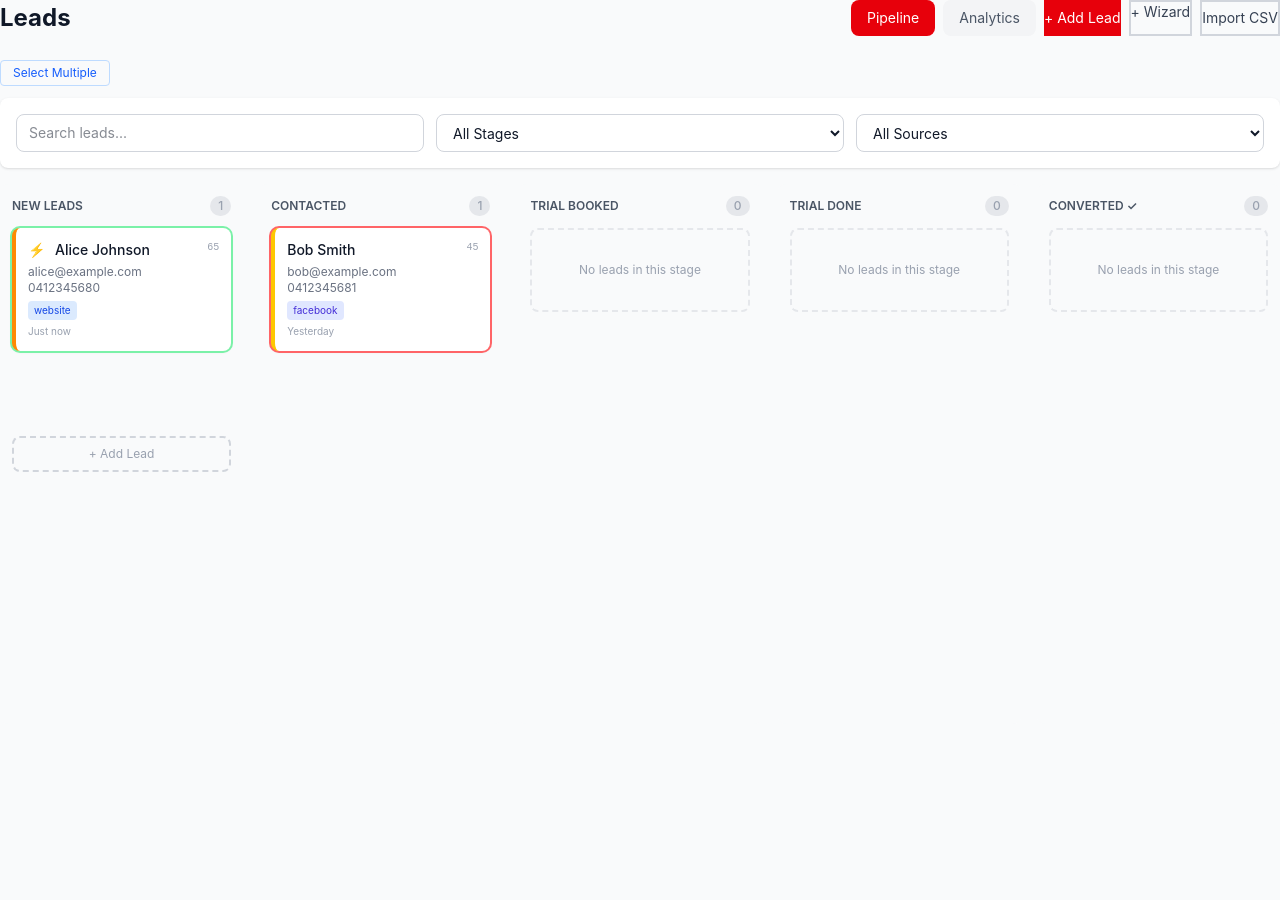
Test: Leads Page › opens detail panel when lead card is clicked
The width and height of the screenshot is (1280, 900).
Click the text "⚡ Alice Johnson" at [89, 250], box x1=28 y1=240 x2=150 y2=260
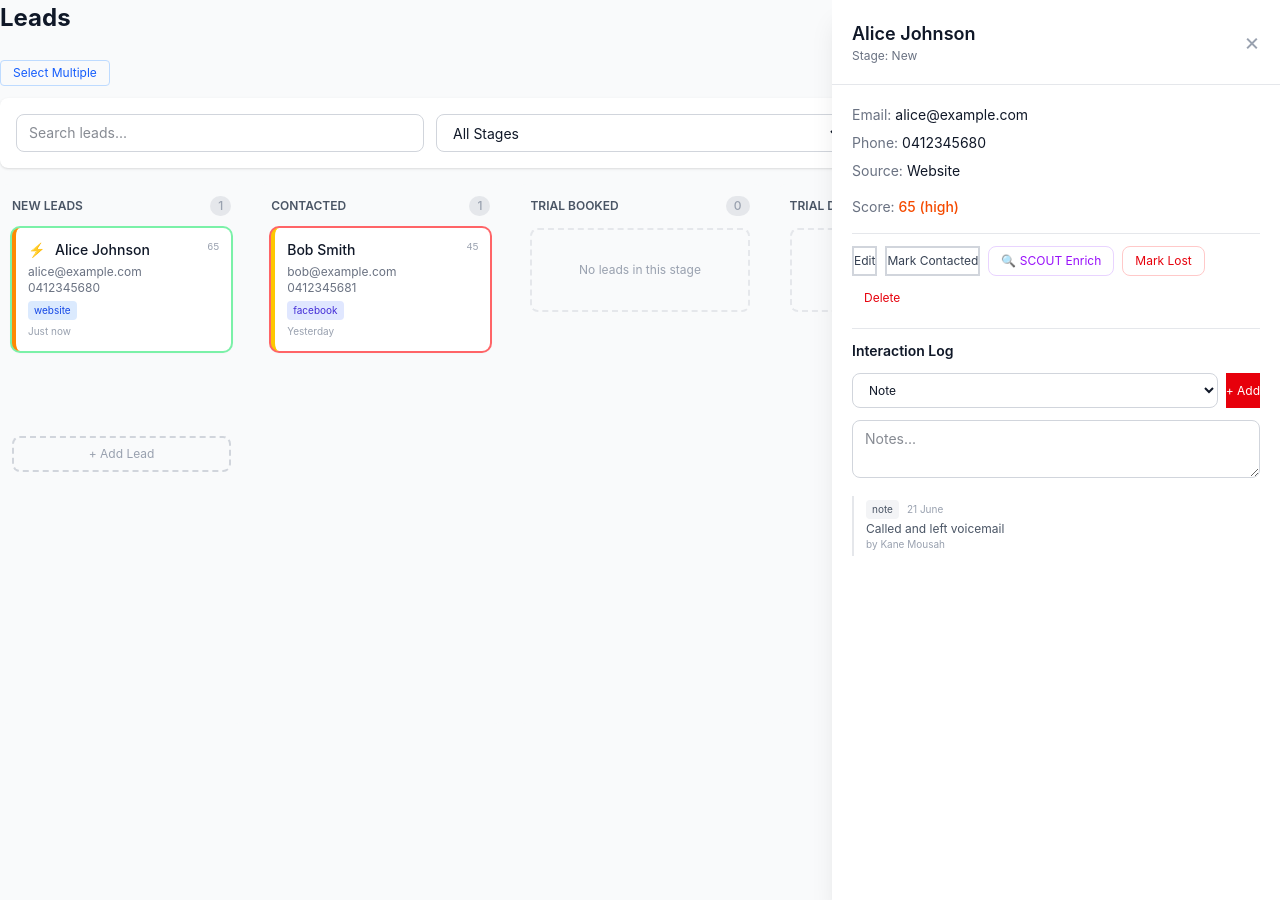
Now the dialog named "Lead details" is shown, box x1=832 y1=0 x2=1279 y2=899
Now the text "Stage: new" is shown, box x1=852 y1=48 x2=917 y2=63
